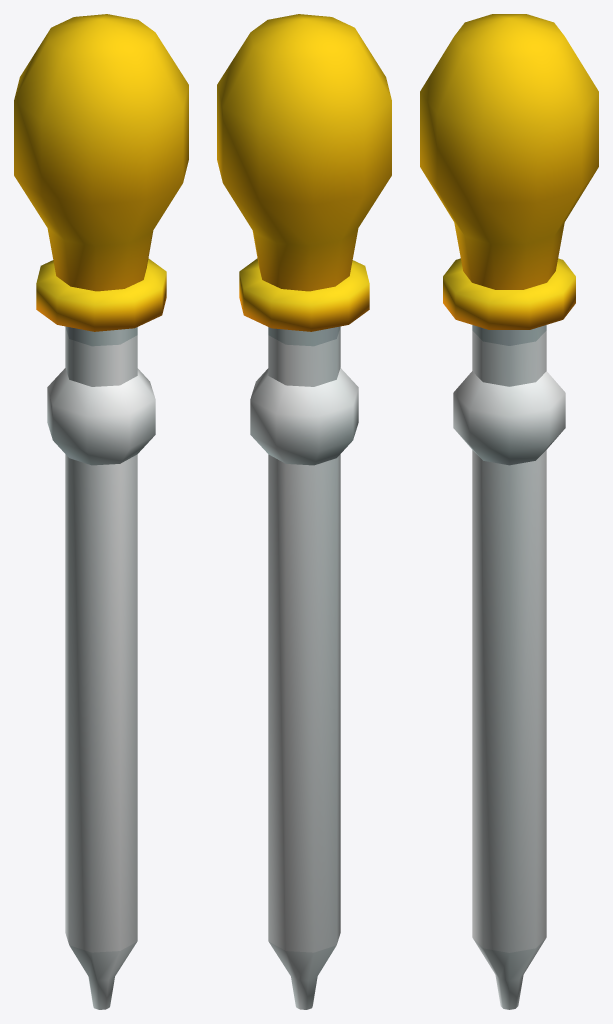
Rendered from CR_sci_Dropper_001.FBX.
3 renders of one model, left to right at view 1: azimuth 30°, elevation 25°; view 2: azimuth 150°, elevation 25°; view 3: azimuth 270°, elevation 25°, orthographic.
Visible parts, largest first — view 1: CR_sci_Dropper_001; view 2: CR_sci_Dropper_001; view 3: CR_sci_Dropper_001.
Part boxes in pixels (x1,y1,x2,y2): CR_sci_Dropper_001: (14,14,188,1009); CR_sci_Dropper_001: (217,14,391,1009); CR_sci_Dropper_001: (420,14,598,1009).
Size of the model in its own units: 2.55 by 16.34 by 2.68.
